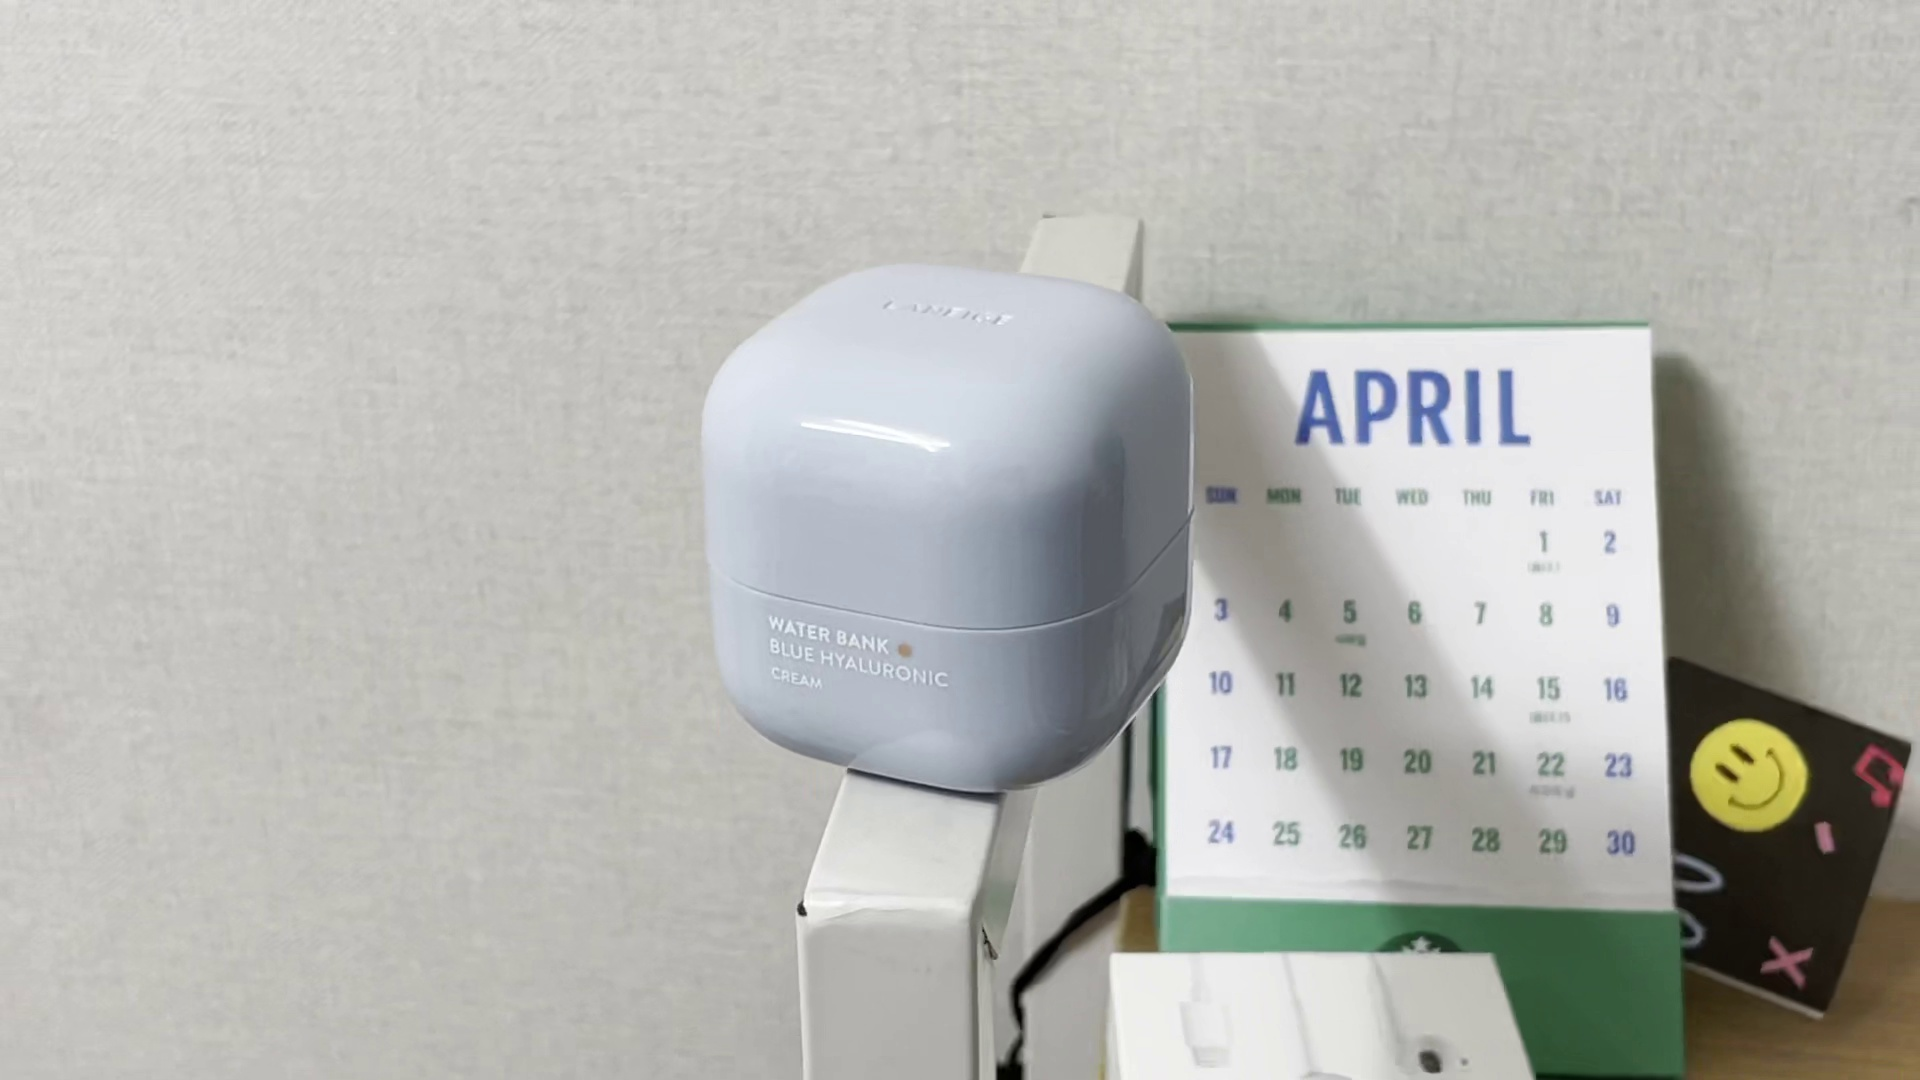cream: (698, 255, 1193, 786)
